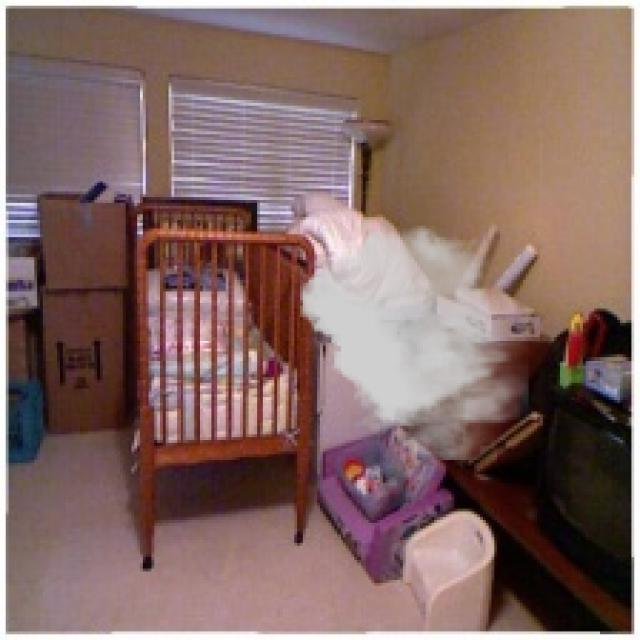Smoke: (300, 225, 529, 460)
